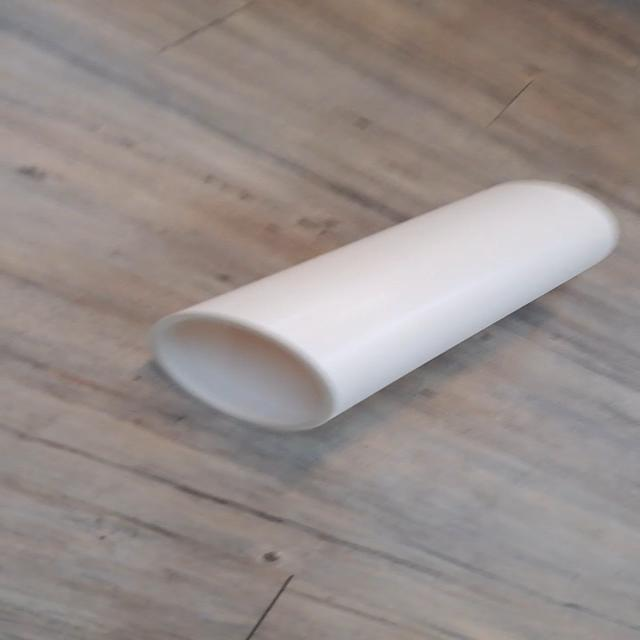CORAL: (134, 172, 630, 440)
